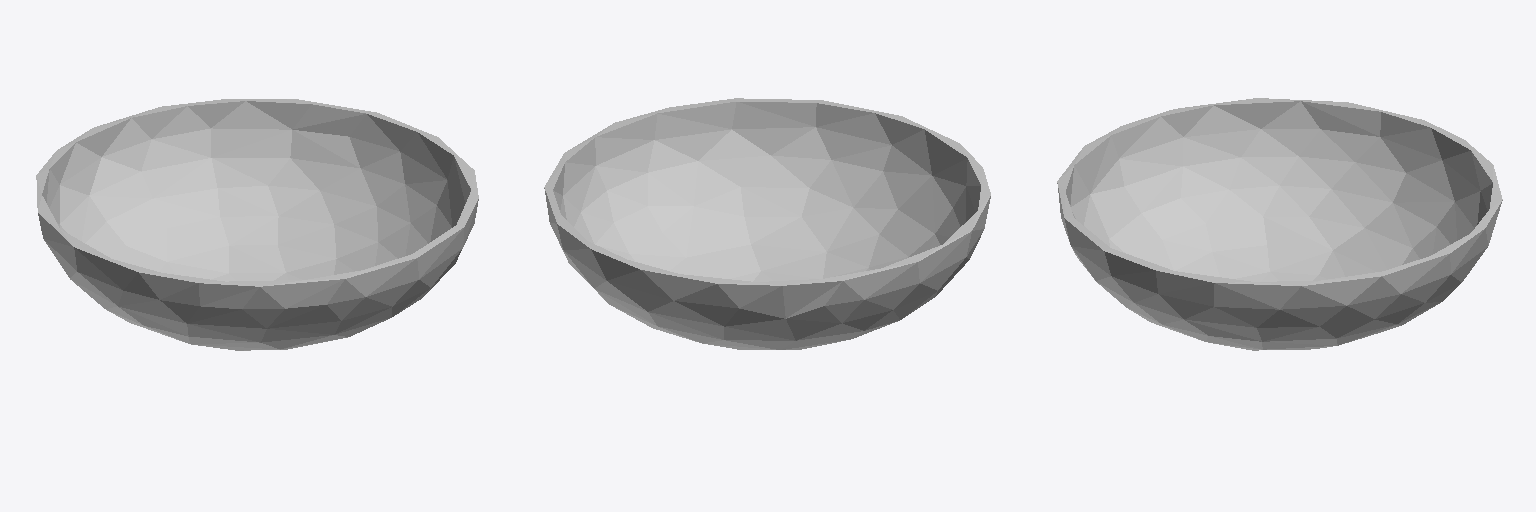
File: new_bowl.obj
3 views of the same model, side by side, from view 1: azimuth 30°, elevation 25°; view 2: azimuth 150°, elevation 25°; view 3: azimuth 270°, elevation 25° (orthographic).
Parts seen in each view (by area): view 1: Sphere; view 2: Sphere; view 3: Sphere.
Boxes of the visible parts, x1=… form: Sphere: x1=36, y1=99, x2=478, y2=350; Sphere: x1=544, y1=98, x2=990, y2=349; Sphere: x1=1057, y1=98, x2=1502, y2=350.
Size of the model in its own units: 2 by 0.6378 by 2.